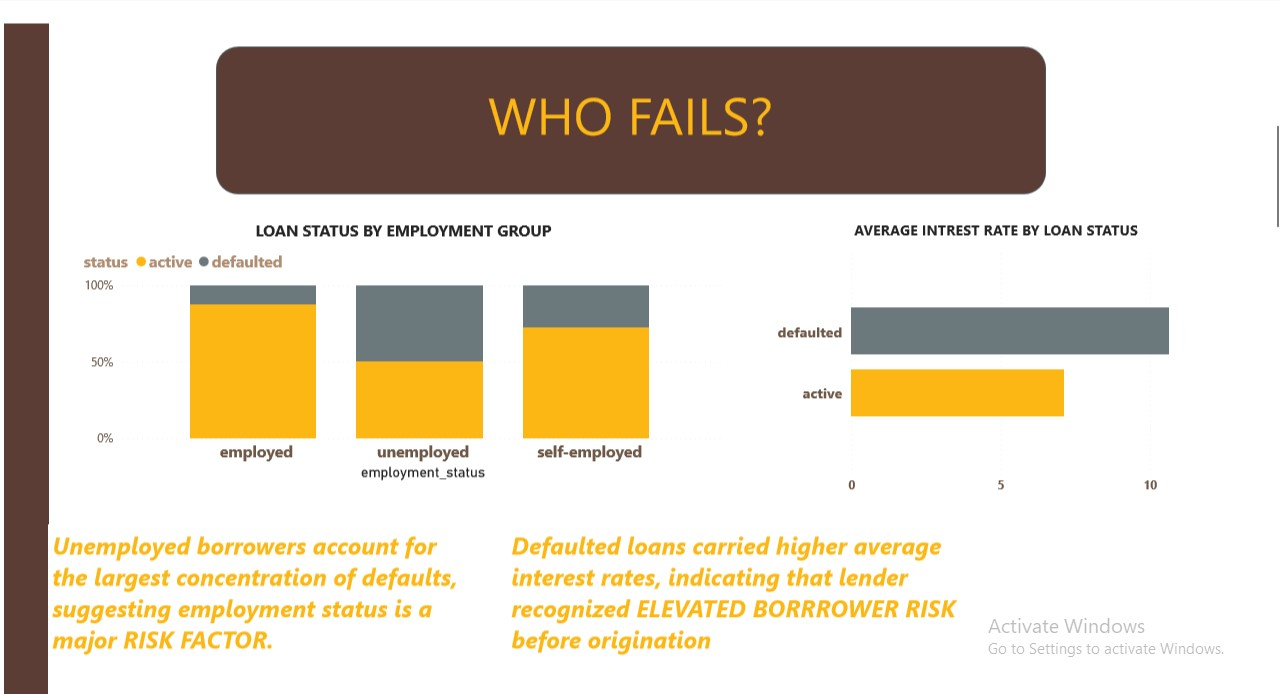

Layout of this report page (visuals, bound fields, positions):
{"tool":"powerbi","page":{"name":"WHO FAILS?","canvas":[1280,720],"ordinal":1},"visuals":[{"type":"shape","box":[0,0,45,719.4],"z":0},{"type":"hundredPercentStackedColumnChart","title":"LOAN STATUS BY EMPLOYMENT GROUP","fields":{"Category":["borrowers.employment_status"],"Series":["loans.status"],"Y":["CountNonNull(payments.payment_status)"]},"box":[75.7,200,662.9,271.4],"z":1000},{"type":"clusteredBarChart","title":"AVERAGE INTREST RATE BY LOAN STATUS","fields":{"Category":["loans.status"],"Y":["Avg(loans.interest_rate)"]},"box":[782.9,200,460,288.6],"z":2000},{"type":"textbox","box":[44.3,511.4,428.6,198.6],"z":3000},{"type":"textbox","box":[512.9,511.4,494.3,198.6],"z":4000},{"type":"shape","box":[216.4,22.9,847.1,151.4],"z":5000},{"type":"textbox","box":[465.7,50,347.1,97.1],"z":6000}]}

Visuals, with their boxes on the page's 1280x720 design canvas (x1, y1, x2, y2). These are canvas units, not pixel positions in the 1281x694 screenshot, which may show the page scaled, cropped or inside an application window:
shape: box=[0, 0, 45, 719]
"LOAN STATUS BY EMPLOYMENT GROUP" hundredPercentStackedColumnChart: box=[76, 200, 739, 471]
"AVERAGE INTREST RATE BY LOAN STATUS" clusteredBarChart: box=[783, 200, 1243, 489]
textbox: box=[44, 511, 473, 710]
textbox: box=[513, 511, 1007, 710]
shape: box=[216, 23, 1064, 174]
textbox: box=[466, 50, 813, 147]
